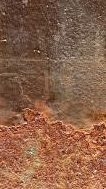Corrosion: (1, 108, 106, 189)
